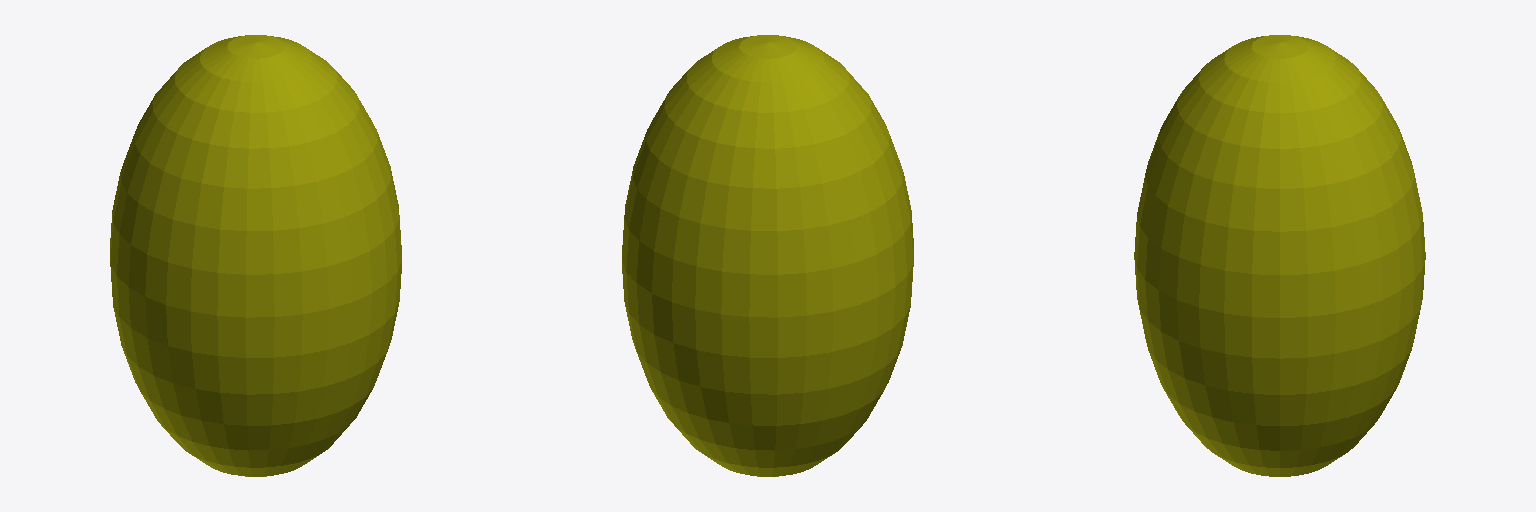
File: moya_freg_y.obj
3 renders of one model, left to right at view 1: azimuth 30°, elevation 25°; view 2: azimuth 150°, elevation 25°; view 3: azimuth 270°, elevation 25°, orthographic.
Visible parts, largest first — view 1: Sphere_Sphere.005_Sphere_Sphere.006; view 2: Sphere_Sphere.005_Sphere_Sphere.006; view 3: Sphere_Sphere.005_Sphere_Sphere.006.
Boxes of the visible parts, x1=… form: Sphere_Sphere.005_Sphere_Sphere.006: x1=110, y1=35, x2=401, y2=476; Sphere_Sphere.005_Sphere_Sphere.006: x1=622, y1=35, x2=913, y2=476; Sphere_Sphere.005_Sphere_Sphere.006: x1=1134, y1=35, x2=1425, y2=476.
Bounding box in the file's own units: 0.6891 × 1.1 × 0.6826.